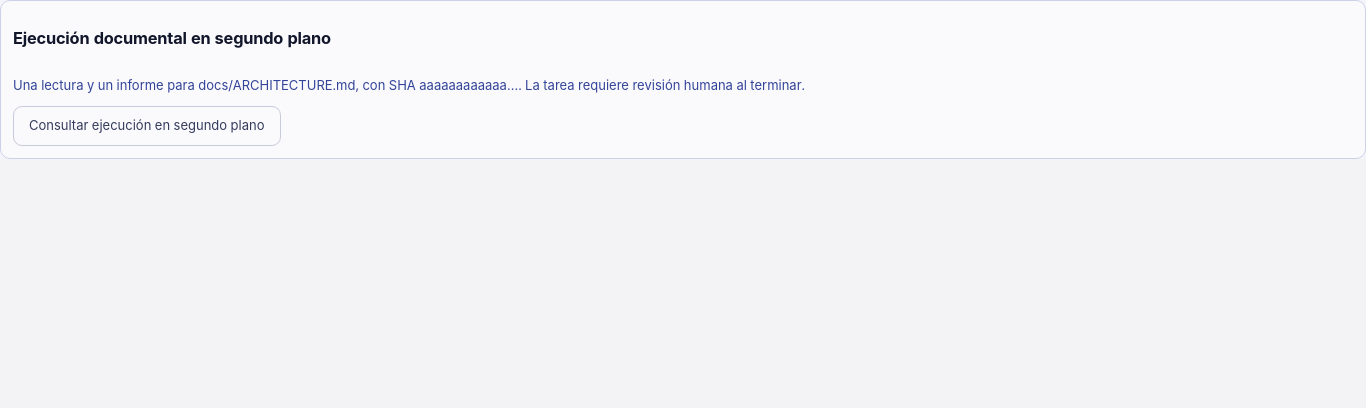
durable document queue › requires explicit sending consent and enqueues without a browser model call
Click the button "Consultar ejecución en segundo plano": {"x": 147, "y": 126} left=13, top=106, right=280, bottom=146
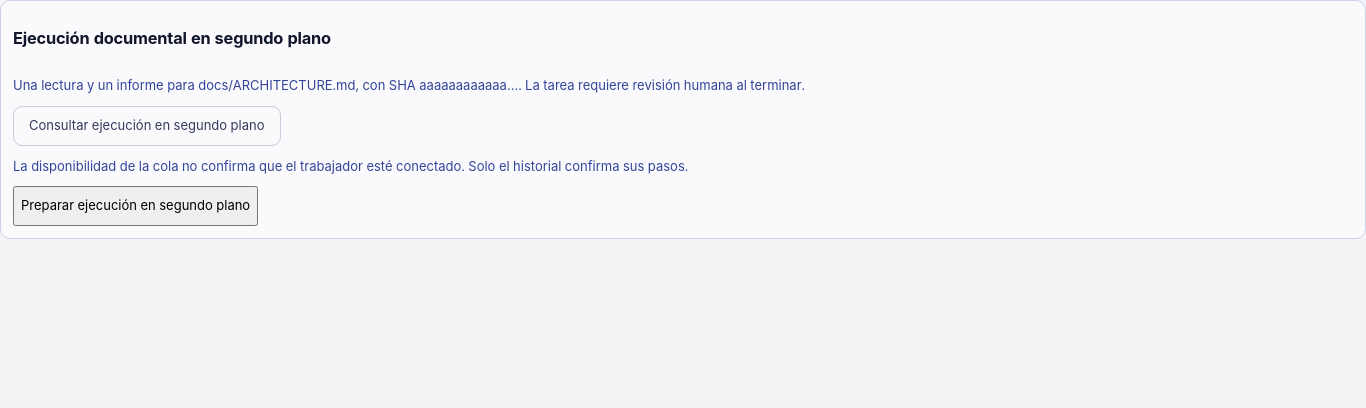
Click the button "Preparar ejecución en segundo plano": {"x": 136, "y": 206} left=13, top=186, right=258, bottom=226
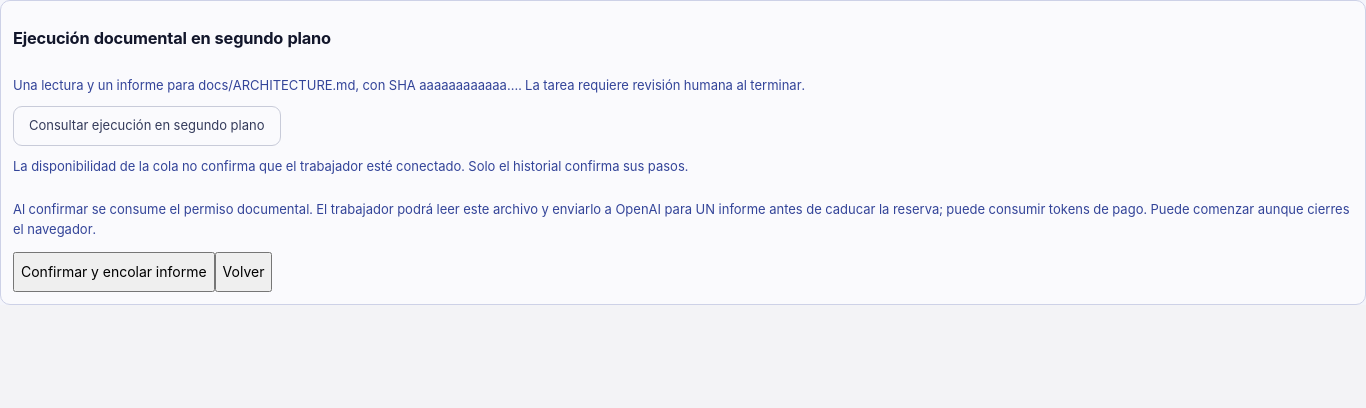
Click the button "Confirmar y encolar informe": {"x": 114, "y": 272} left=13, top=252, right=215, bottom=292
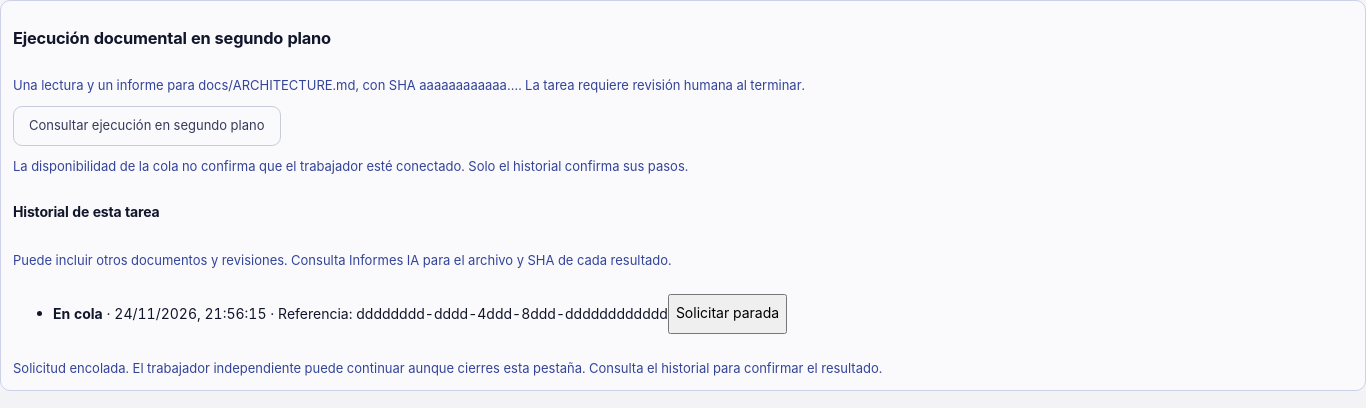
Expected: the text "En cola" is shown, left=53, top=304, right=103, bottom=321
